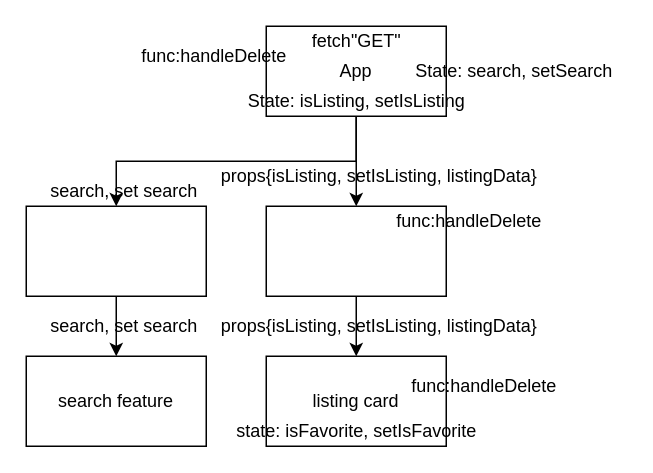
Some shapes in this 653 by 473 pixel diagram are drawn without their labels. Each missing label, with the centre of its shape:
header: the point at 115,250
listing container: the point at 355,250
